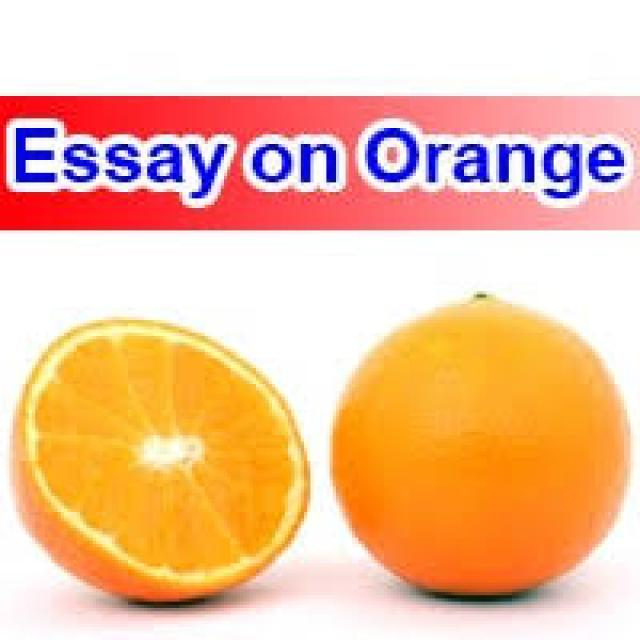orange: (15, 303, 323, 626), (335, 290, 640, 613)
